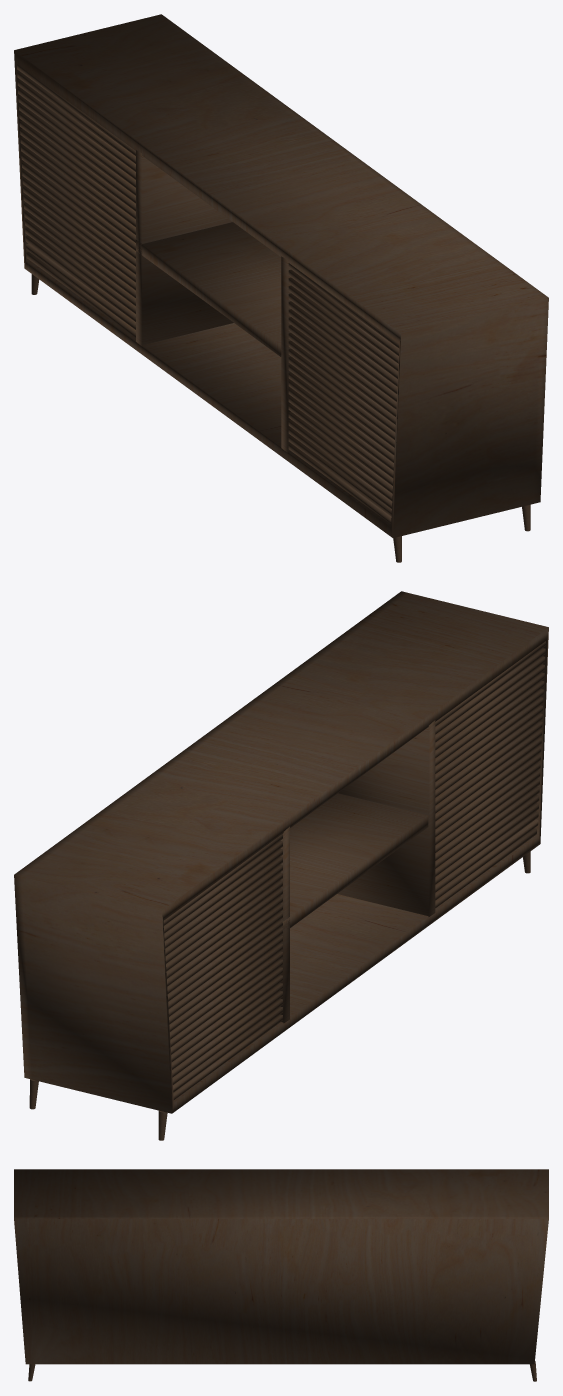
Rendered from modern_slatted_wooden_tv_stand.glb.
The picture shows the model from 3 angles, top to bottom: view 1: azimuth 30°, elevation 25°; view 2: azimuth 150°, elevation 25°; view 3: azimuth 270°, elevation 25°; orthographic projection. The views are drawn at different scales.
Parts seen in each view (by area): view 1: SlattedTVStand; view 2: SlattedTVStand; view 3: SlattedTVStand.
Boxes of the visible parts, x1,y1,x2,y2 form: SlattedTVStand: (14,14,548,562); SlattedTVStand: (14,591,548,1140); SlattedTVStand: (14,1169,548,1381).
Bounding box in the file's own units: 0.356 × 0.55 × 1.62.
1 material, 1 textured.
